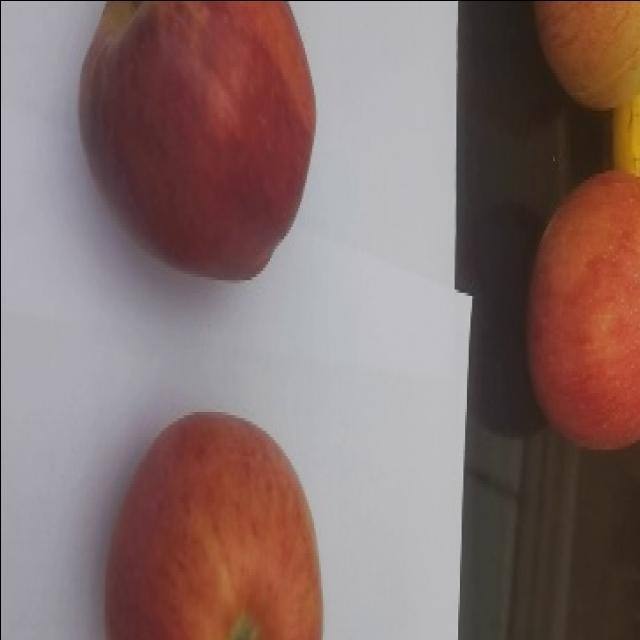Apple: (78, 0, 316, 282), (95, 411, 326, 640), (514, 167, 640, 457), (523, 1, 640, 106)
